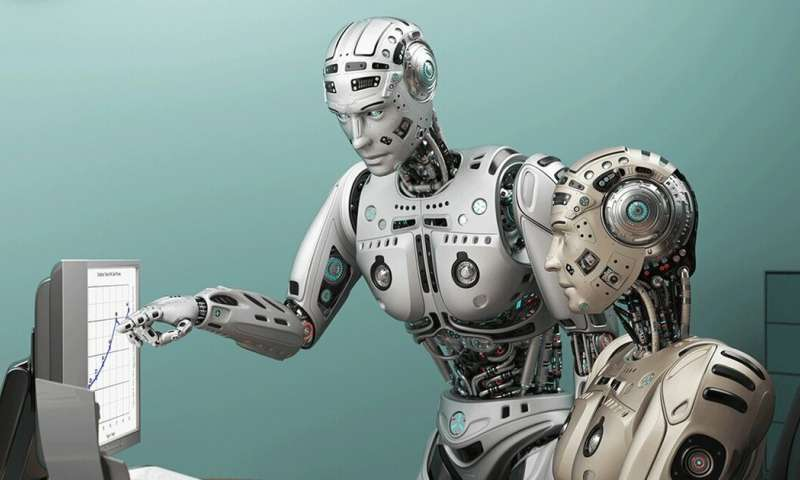person-like: (110, 10, 623, 480), (540, 140, 780, 480)
